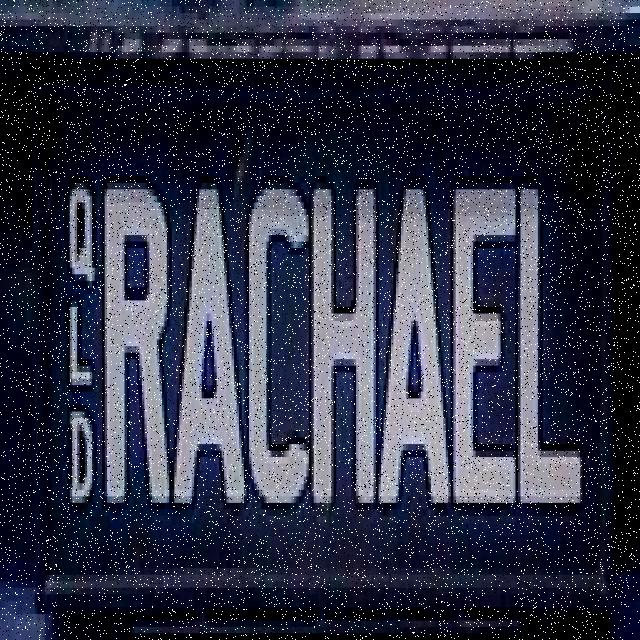licenseplate: (18, 41, 628, 625)
